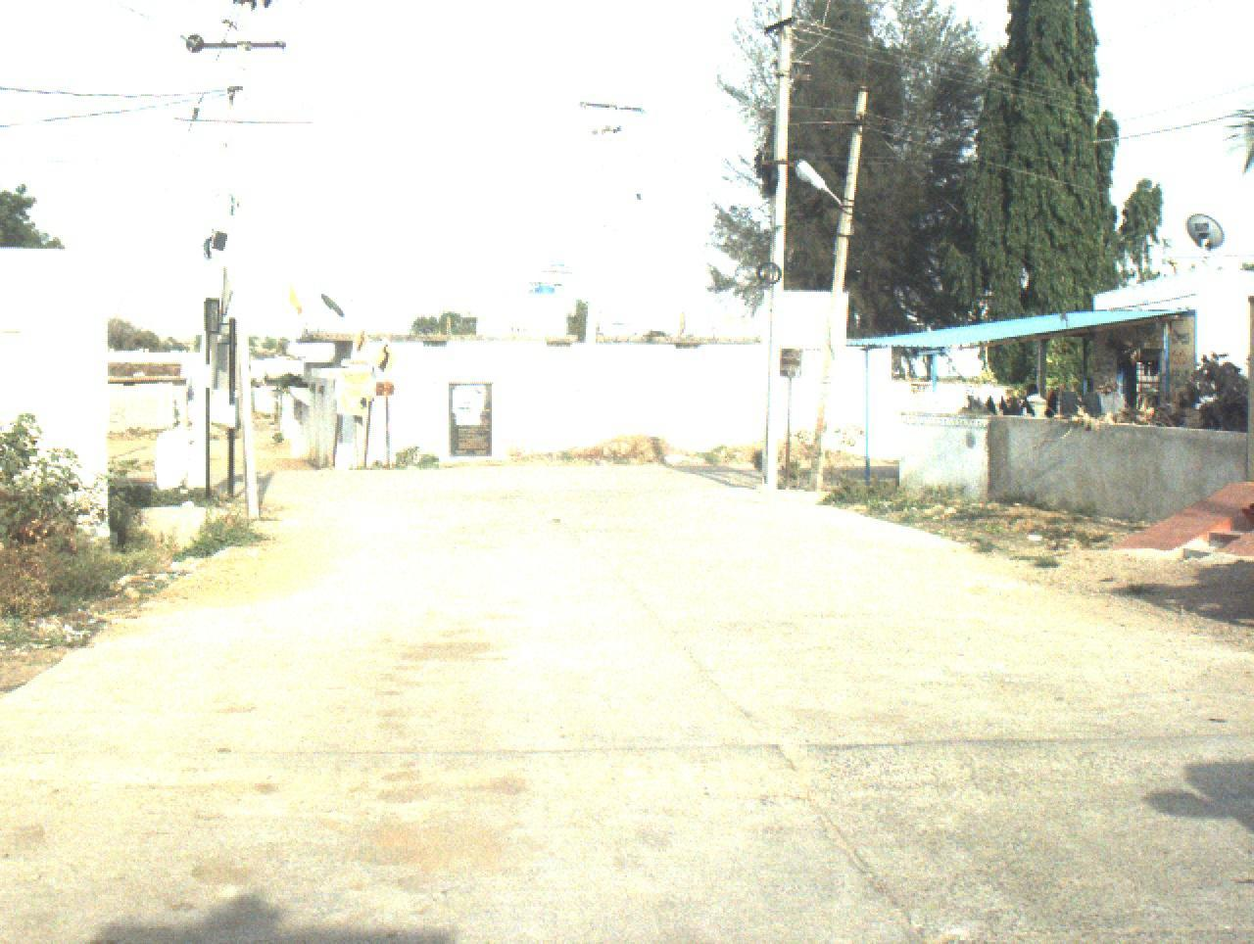streetlight: (795, 160, 858, 257)
